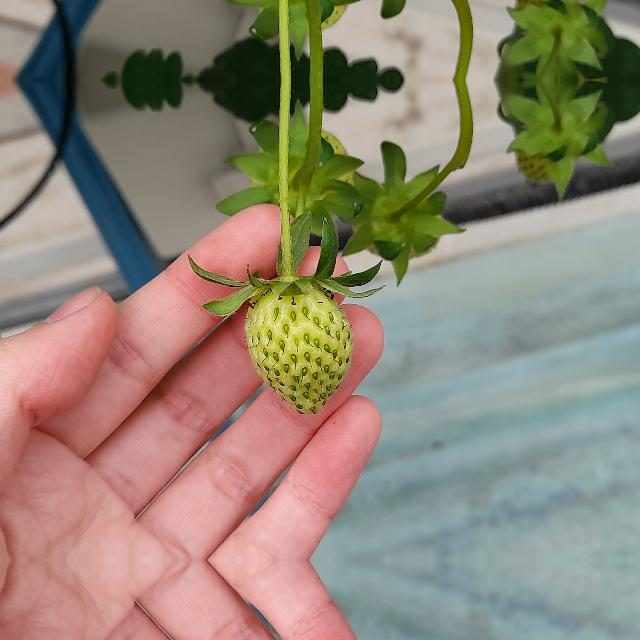Health_25: (244, 286, 352, 416)
